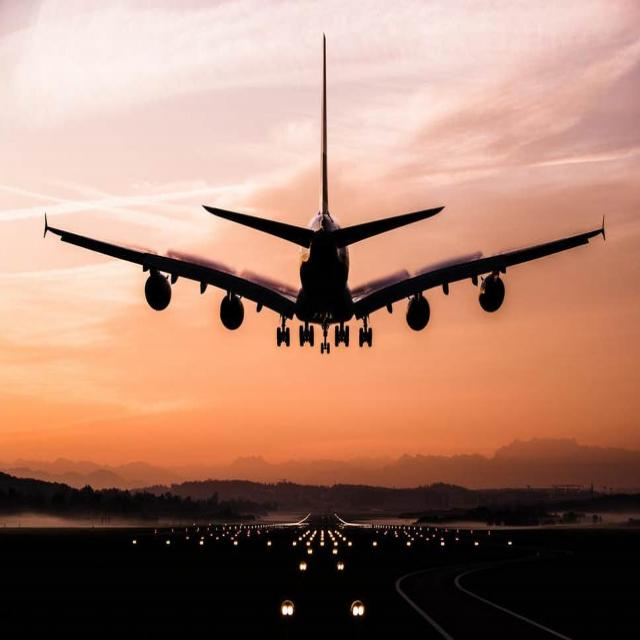airplane: (203, 139, 479, 384)
